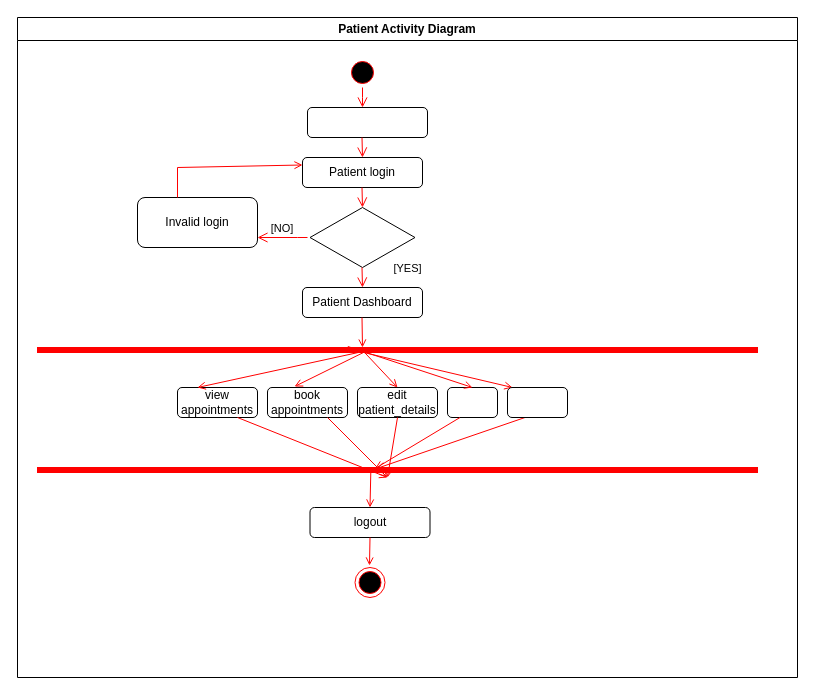
Some shapes in this 815 by 695 pixel diagram are drawn without their labels. Here are the shapes that lost their labels. From the top down, the box of each, then its label:
(306, 106, 428, 138): signup
(309, 206, 415, 268): verify credentials
(446, 386, 498, 418): view doctors
(506, 386, 568, 418): view Speciality
